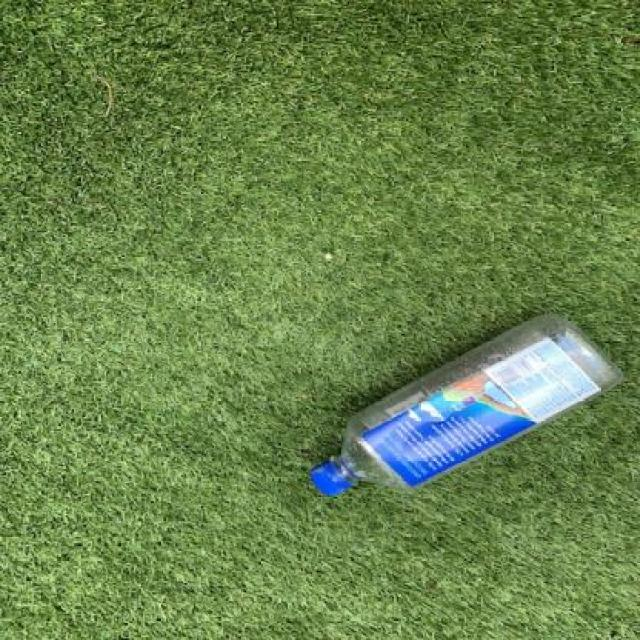trash: (308, 313, 628, 498)
